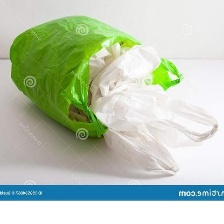plastic_bag: (4, 11, 188, 140), (83, 79, 222, 177), (85, 41, 166, 101)
